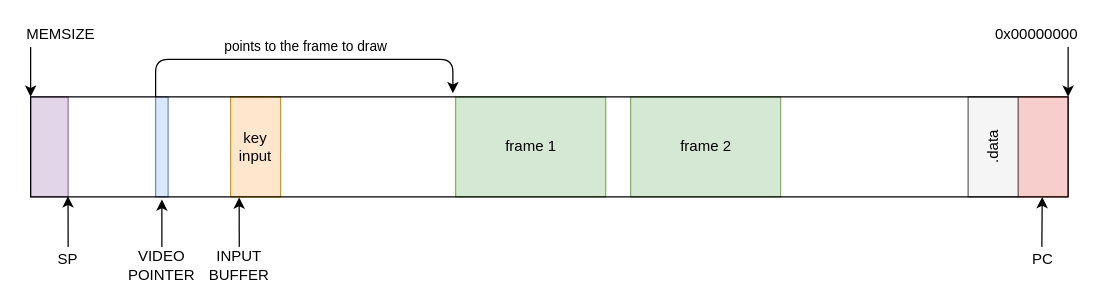
Some shapes in this 1103 by 305 pixel diagram are drawn without their labels. The centre of each missing label's shape, as x and y in pixels:
.text: the point at 1042,146
stack: the point at 48,146
